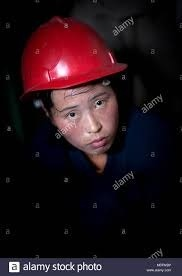helmet: (19, 16, 130, 94)
person with partial safety: (15, 14, 156, 257)
